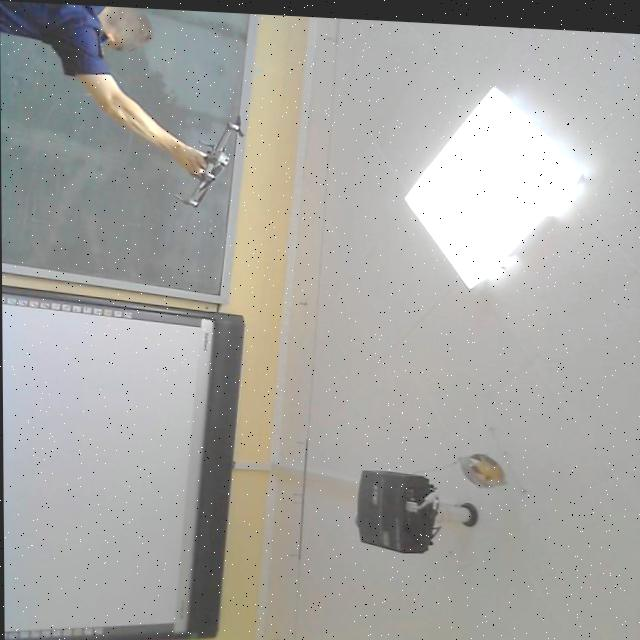drone: (167, 100, 263, 221)
